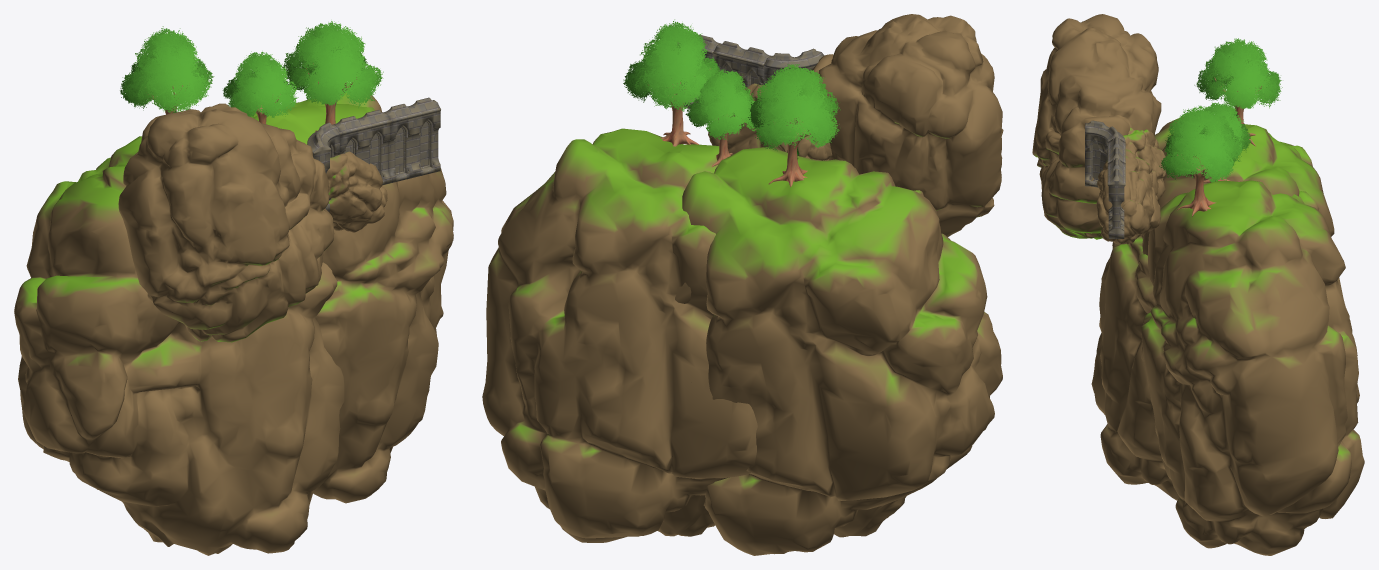
File: cell_x0_z-2_render.gltf
3 renders of one model, left to right at view 1: azimuth 30°, elevation 25°; view 2: azimuth 150°, elevation 25°; view 3: azimuth 270°, elevation 25°, orthographic. The views are drawn at different scales.
Parts seen in each view (by area): view 1: SM_ENV_cliff_castle_01_LOD0.046, SM_ENV_cliff_castle_01_LOD0.025, SM_ENV_cliff_castle_01_LOD0.052, SM_ENV_tree_castle_01_LOD0.038, SM_ENV_tree_castle_01_LOD0.049, SM_MOD_citywall_straight_castle_LOD0.004, SM_ENV_cliff_castle_01_LOD0.040, SM_ENV_tree_castle_01_LOD0.015, SM_MOD_citywall_straight_castle_LOD0.002, SM_MOD_citywall_curved_castle_LOD0.001; view 2: SM_ENV_cliff_castle_01_LOD0.046, SM_ENV_cliff_castle_01_LOD0.052, SM_ENV_cliff_castle_01_LOD0.025, SM_ENV_tree_castle_01_LOD0.049, SM_ENV_tree_castle_01_LOD0.038, SM_ENV_tree_castle_01_LOD0.015, SM_MOD_citywall_straight_castle_LOD0.002, SM_ENV_cliff_castle_01_LOD0.040, SM_MOD_citywall_curved_castle_LOD0.001, SM_ENV_cliff_castle_01_LOD0.036; view 3: SM_ENV_cliff_castle_01_LOD0.052, SM_ENV_cliff_castle_01_LOD0.046, SM_ENV_cliff_castle_01_LOD0.025, SM_ENV_tree_castle_01_LOD0.038, SM_ENV_tree_castle_01_LOD0.049, SM_ENV_cliff_castle_01_LOD0.040, SM_MOD_citywall_curved_castle_LOD0.001, SM_MOD_citywall_straight_castle_LOD0.004, SM_ENV_cliff_castle_01_LOD0.036, SM_ENV_tree_castle_01_LOD0.015, SM_MOD_citywall_straight_castle_LOD0.002.
Part boxes in pixels (bbox=[...]): SM_ENV_cliff_castle_01_LOD0.046: bbox=[14, 136, 344, 555]; SM_ENV_cliff_castle_01_LOD0.025: bbox=[118, 103, 334, 342]; SM_ENV_cliff_castle_01_LOD0.052: bbox=[250, 90, 453, 503]; SM_ENV_tree_castle_01_LOD0.038: bbox=[282, 21, 383, 131]; SM_ENV_tree_castle_01_LOD0.049: bbox=[120, 26, 214, 114]; SM_MOD_citywall_straight_castle_LOD0.004: bbox=[384, 97, 440, 183]; SM_ENV_cliff_castle_01_LOD0.040: bbox=[326, 151, 387, 232]; SM_ENV_tree_castle_01_LOD0.015: bbox=[222, 51, 298, 123]; SM_MOD_citywall_straight_castle_LOD0.002: bbox=[334, 110, 390, 185]; SM_MOD_citywall_curved_castle_LOD0.001: bbox=[307, 122, 340, 211]; SM_ENV_cliff_castle_01_LOD0.046: bbox=[675, 147, 1002, 555]; SM_ENV_cliff_castle_01_LOD0.052: bbox=[482, 128, 757, 542]; SM_ENV_cliff_castle_01_LOD0.025: bbox=[810, 14, 1003, 236]; SM_ENV_tree_castle_01_LOD0.049: bbox=[748, 64, 840, 186]; SM_ENV_tree_castle_01_LOD0.038: bbox=[623, 19, 720, 146]; SM_ENV_tree_castle_01_LOD0.015: bbox=[685, 69, 758, 166]; SM_MOD_citywall_straight_castle_LOD0.002: bbox=[713, 41, 770, 87]; SM_ENV_cliff_castle_01_LOD0.040: bbox=[708, 83, 774, 155]; SM_MOD_citywall_curved_castle_LOD0.001: bbox=[763, 48, 824, 83]; SM_ENV_cliff_castle_01_LOD0.036: bbox=[773, 117, 832, 160]; SM_ENV_cliff_castle_01_LOD0.052: bbox=[1141, 180, 1364, 555]; SM_ENV_cliff_castle_01_LOD0.046: bbox=[1091, 116, 1334, 500]; SM_ENV_cliff_castle_01_LOD0.025: bbox=[1032, 14, 1161, 239]; SM_ENV_tree_castle_01_LOD0.038: bbox=[1159, 105, 1242, 216]; SM_ENV_tree_castle_01_LOD0.049: bbox=[1194, 38, 1282, 146]; SM_ENV_cliff_castle_01_LOD0.040: bbox=[1096, 149, 1160, 244]; SM_MOD_citywall_curved_castle_LOD0.001: bbox=[1085, 120, 1125, 187]; SM_MOD_citywall_straight_castle_LOD0.004: bbox=[1107, 158, 1125, 238]; SM_ENV_cliff_castle_01_LOD0.036: bbox=[1123, 127, 1166, 200]; SM_ENV_tree_castle_01_LOD0.015: bbox=[1201, 102, 1251, 182]; SM_MOD_citywall_straight_castle_LOD0.002: bbox=[1107, 136, 1125, 211].
Size of the model in its own units: 71.09 by 77.36 by 52.62.
6 materials, 5 textured.
